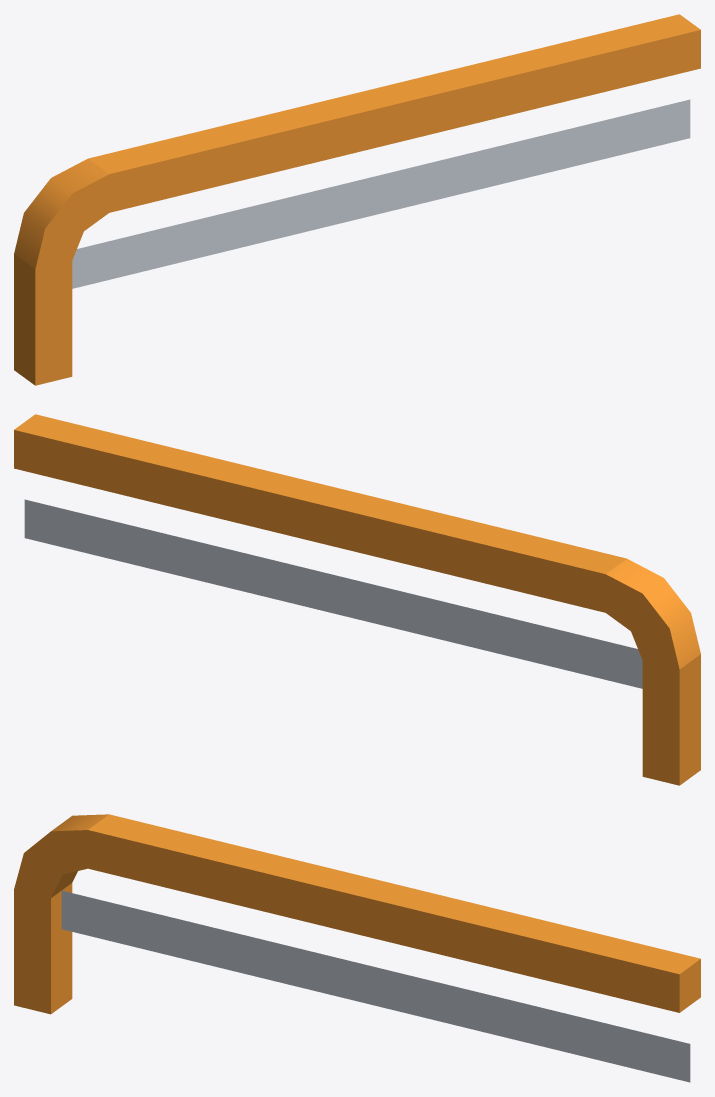
File: rail_end.obj
3 renders of one model, top to bottom at view 1: azimuth 30°, elevation 25°; view 2: azimuth 150°, elevation 25°; view 3: azimuth 330°, elevation 25°, orthographic.
Parts seen in each view (by area): view 1: rail_end; view 2: rail_end; view 3: rail_end.
Boxes of the visible parts, x1,y1,x2,y2 form: rail_end: [14, 14, 700, 385]; rail_end: [14, 414, 700, 785]; rail_end: [14, 814, 700, 1082].
Bounding box in the file's own units: 0.9 × 0.25 × 0.05.
